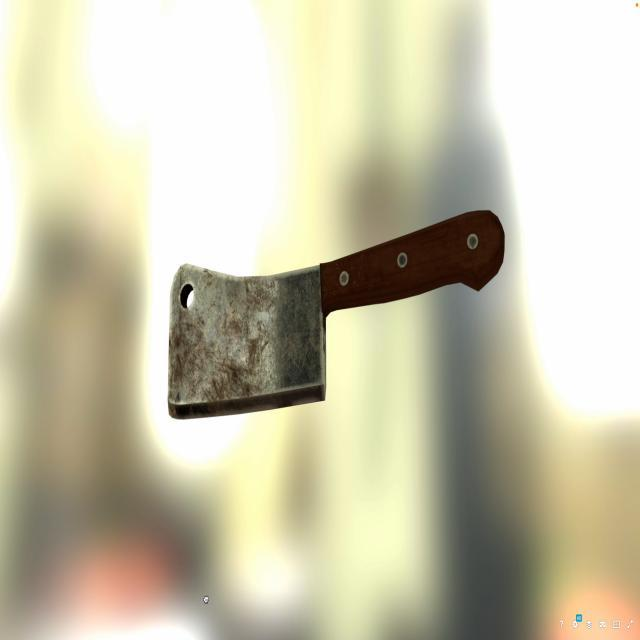cleaver: (167, 205, 505, 424)
